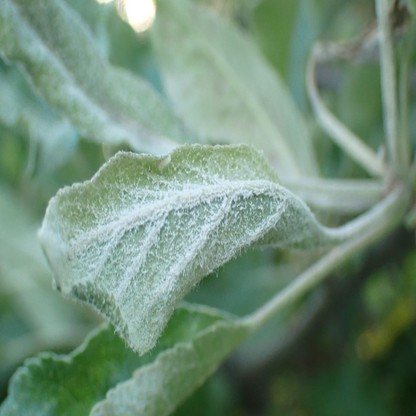powdery_mildew: (42, 144, 331, 349), (155, 3, 319, 176), (0, 0, 184, 152), (0, 304, 244, 416)
